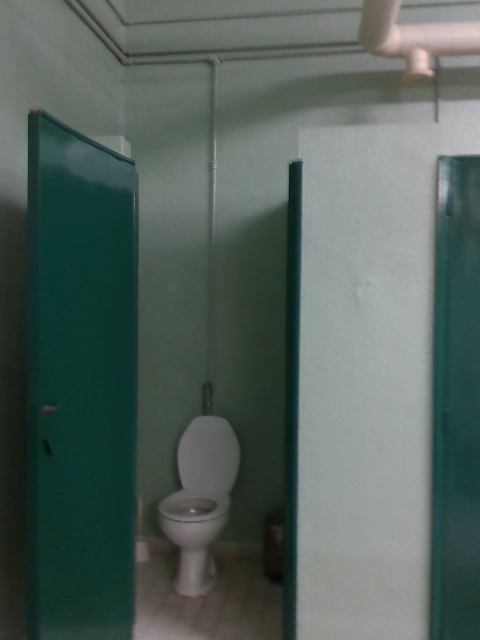open: (34, 106, 139, 639)
